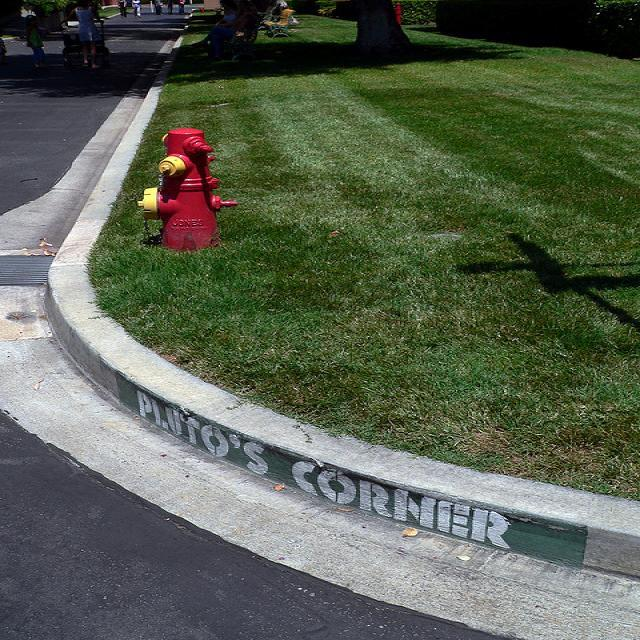fire_hydrant: (134, 127, 236, 253)
